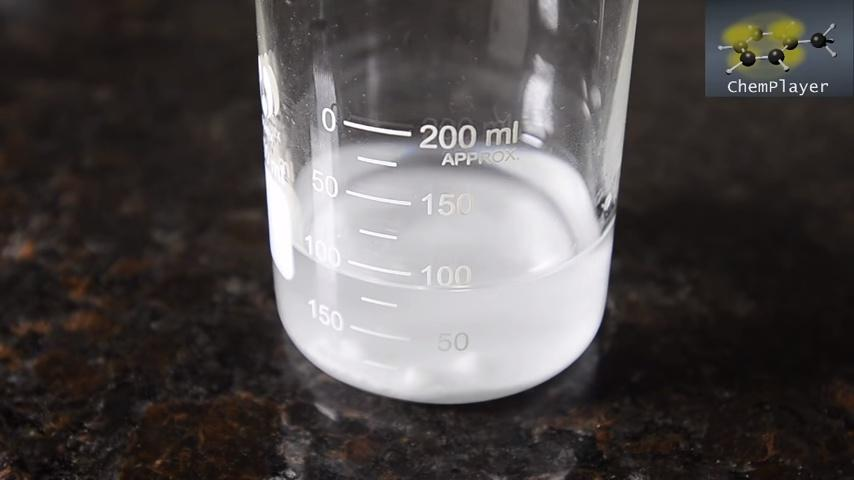Beaker: (249, 3, 645, 407)
